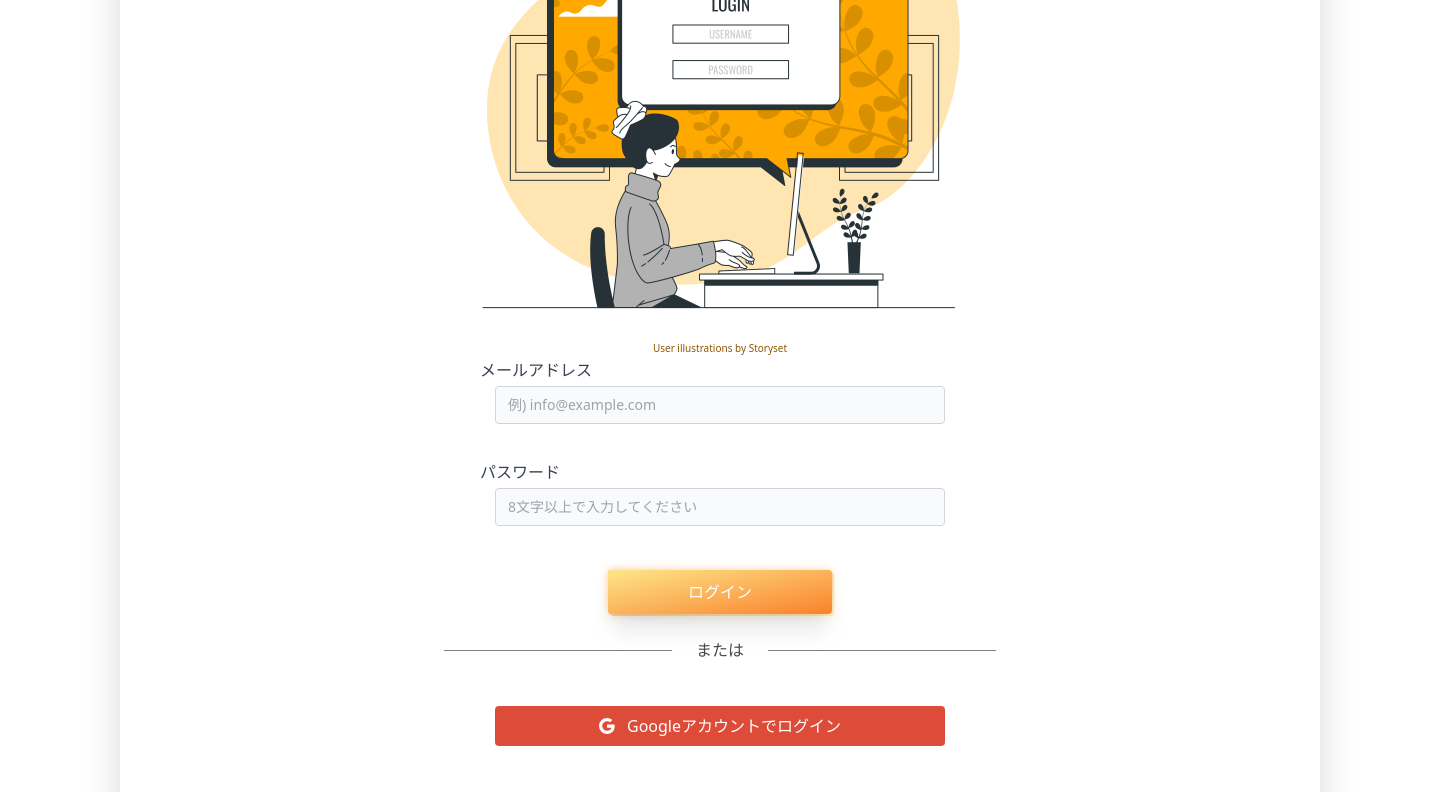
Scenario: SignIn Components Test Cases › Should display an error if the entered value is invalid
This screenshot has width=1440, height=792.
(page scrolled)
Type "test" into the field with test id "input-email" at (720, 405), box [495,386,945,424]
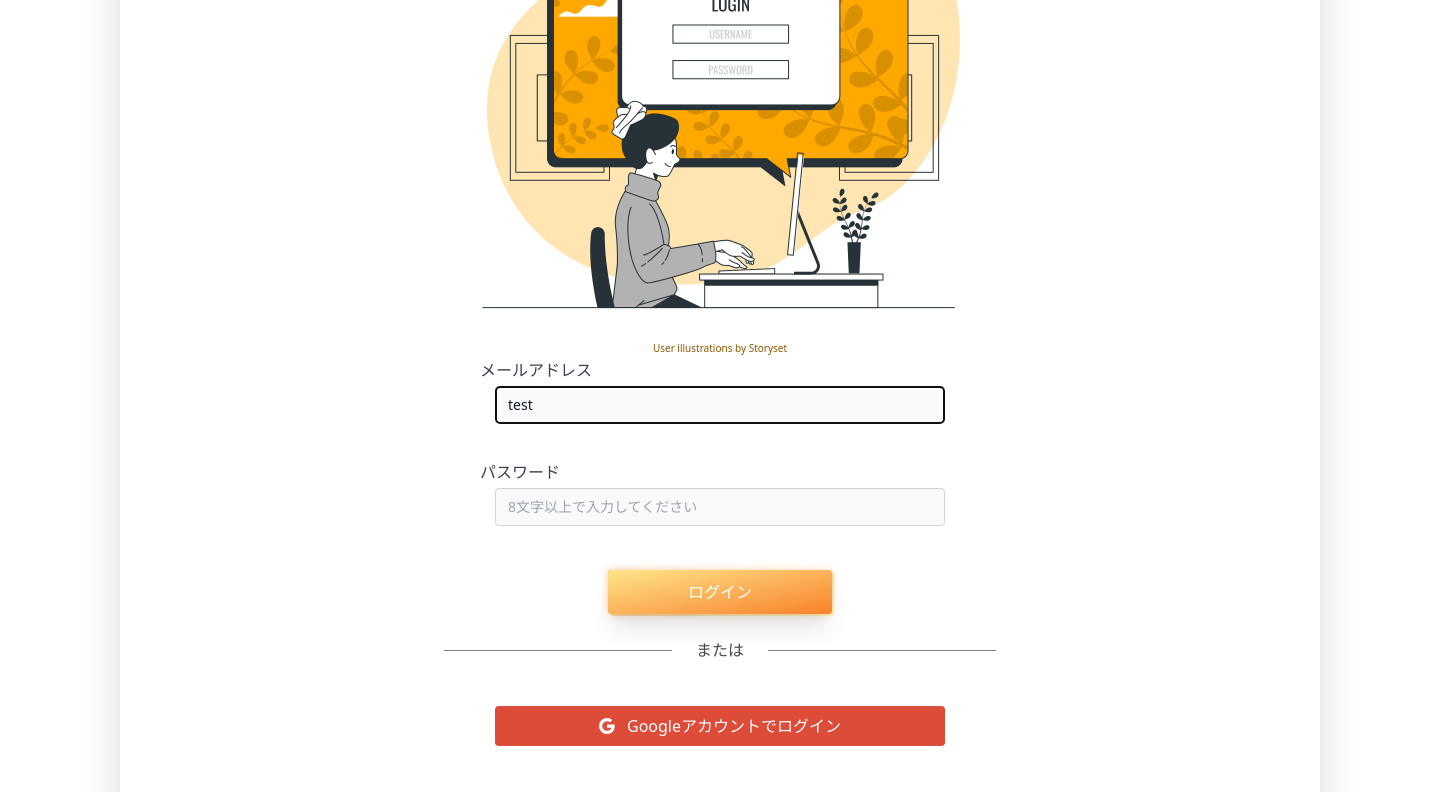
Type "test" into the password field with test id "input-password" at (720, 507), box [495,488,945,526]
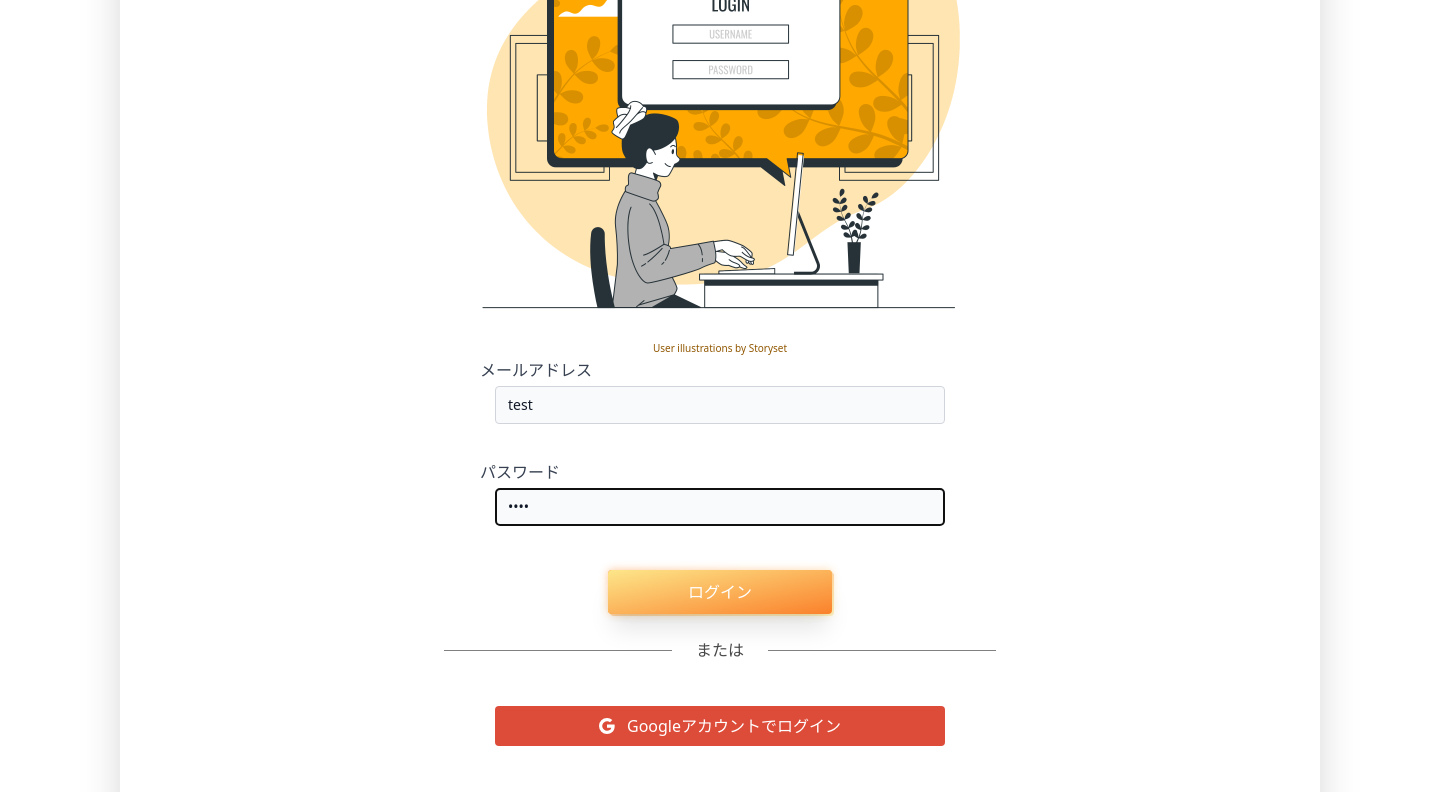
Click the button with test id "button-signin" at (720, 592), box [608,570,832,614]
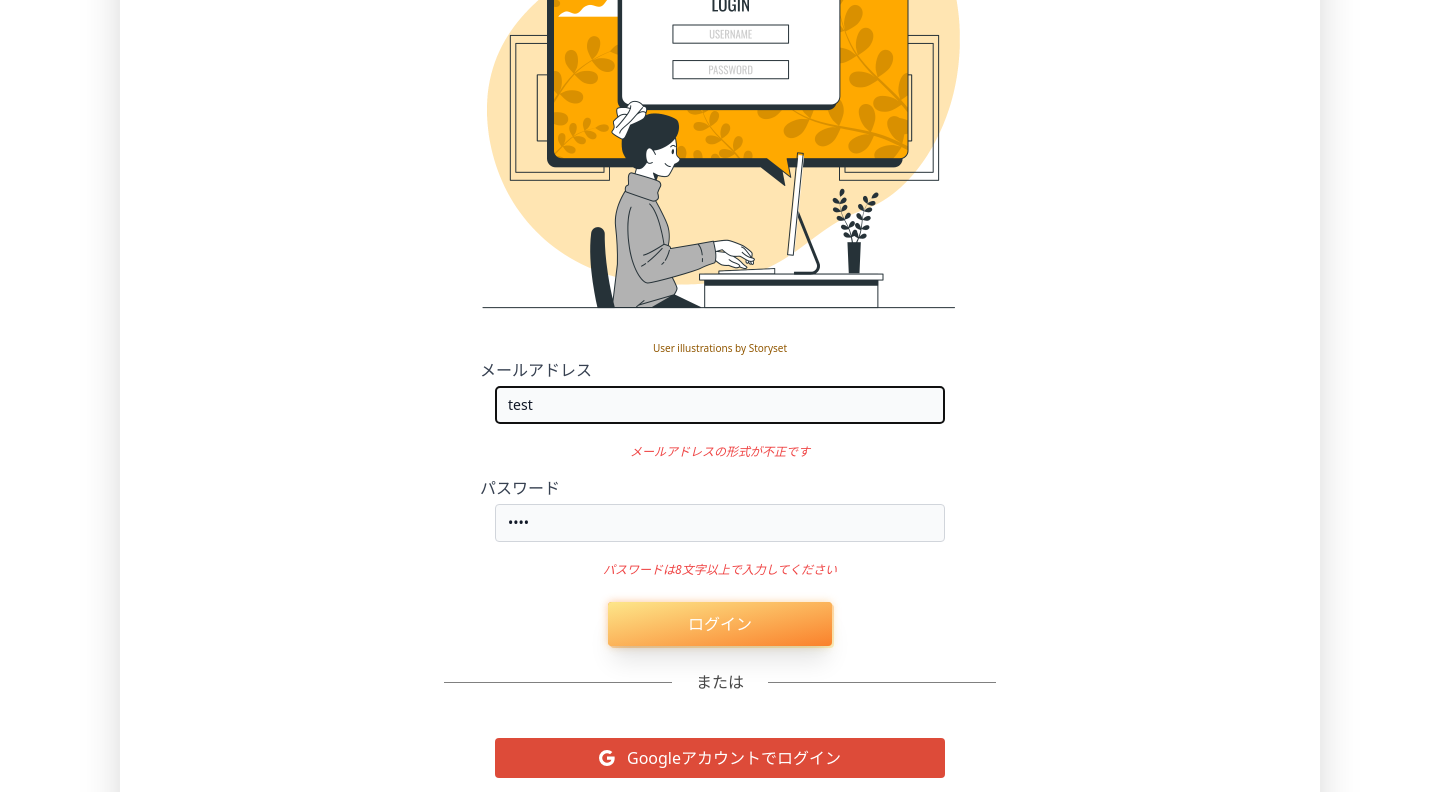
Check: the number of messages is 2, box [630,443,810,460]; [603,561,837,578]
